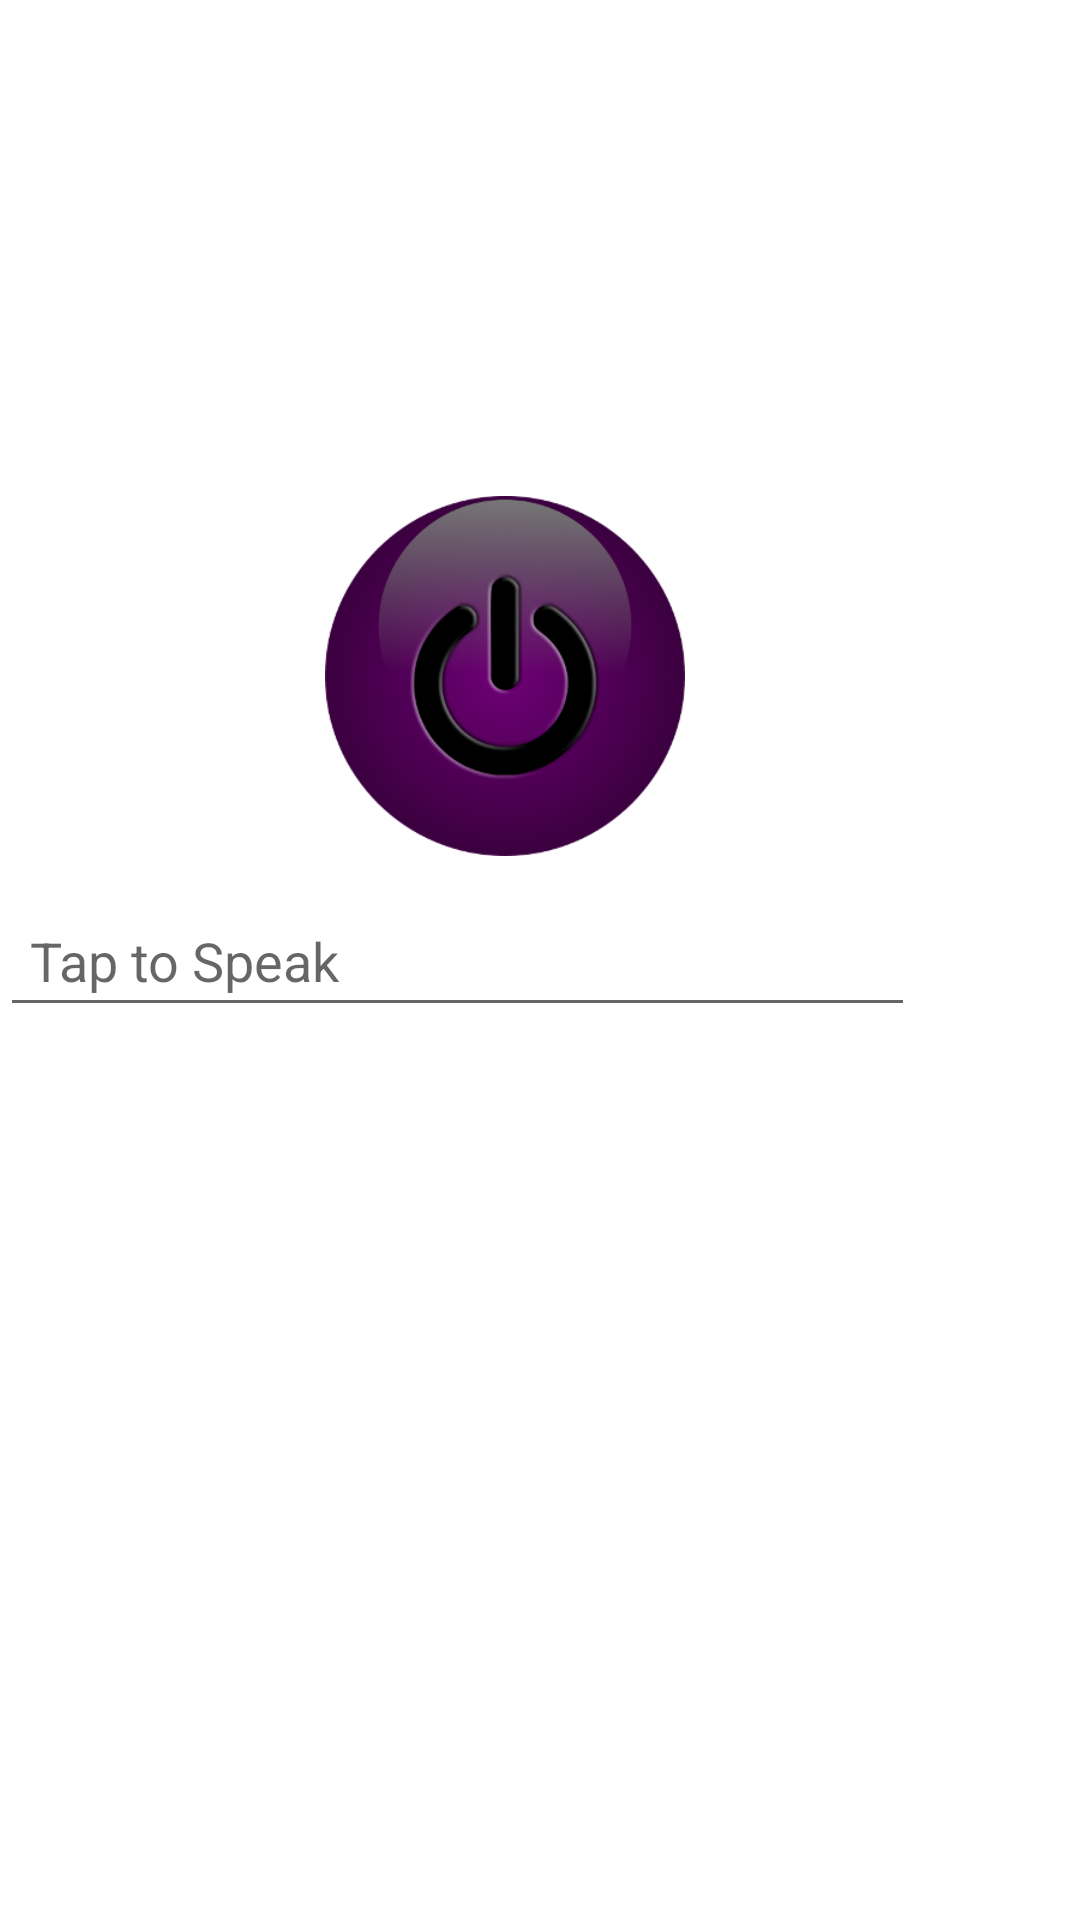

Screen size 1080x1920. Icon name, then its box in pixels as (x1, y1, x2, y2):
poweroff: (325, 496, 685, 856)
